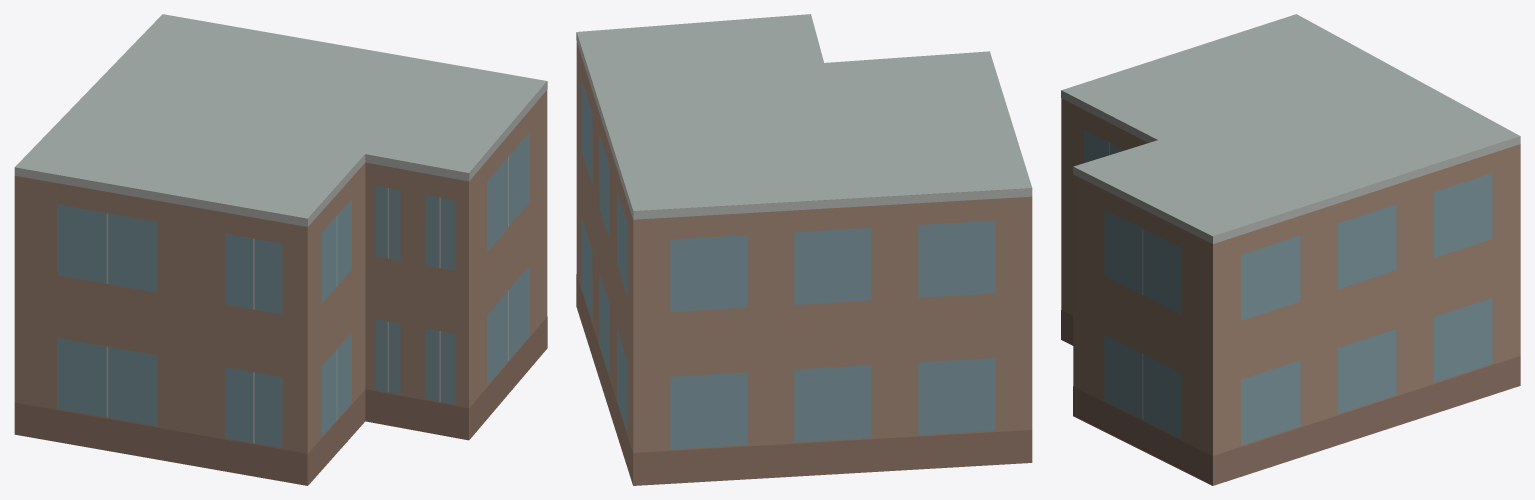
File: survey-upis-32726637.glb
3 views of the same model, side by side, from view 1: azimuth 30°, elevation 25°; view 2: azimuth 150°, elevation 25°; view 3: azimuth 270°, elevation 25° (orthographic). The views are drawn at different scales.
Visible parts, largest first — view 1: survey-upis-32726637.tmp; view 2: survey-upis-32726637.tmp; view 3: survey-upis-32726637.tmp.
Boxes of the visible parts, x1,y1,x2,y2 form: survey-upis-32726637.tmp: (14, 14, 547, 485); survey-upis-32726637.tmp: (576, 14, 1032, 485); survey-upis-32726637.tmp: (1061, 14, 1520, 485).
Size of the model in its own units: 14.92 by 7.8 by 13.03.
